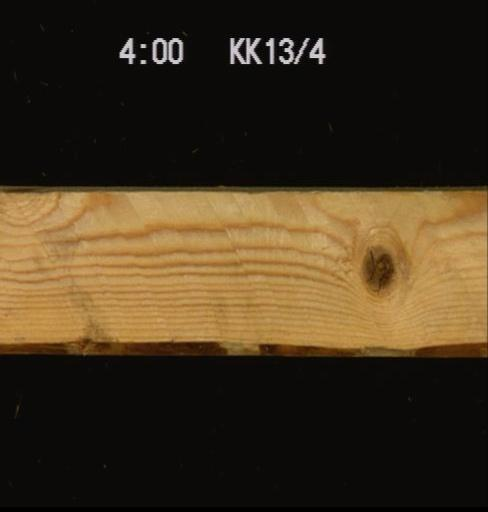sound_knot: (357, 243, 396, 295)
wave: (0, 339, 486, 356)
